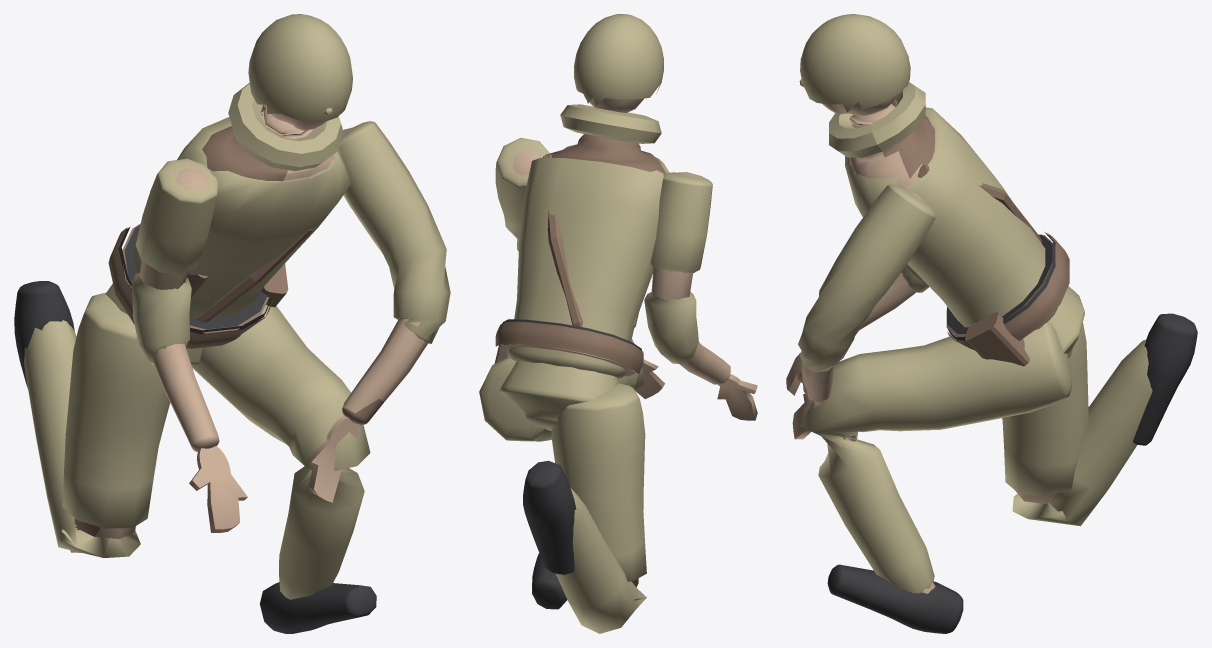
The model's file is tactical-shooter-hill-town-desert-scout-planting-4b461fe9__27581.glb.
3 views of the same model, side by side, from view 1: azimuth 30°, elevation 25°; view 2: azimuth 150°, elevation 25°; view 3: azimuth 270°, elevation 25° (orthographic). The views are drawn at different scales.
Visible parts, largest first — view 1: desert-scout-planting; view 2: desert-scout-planting; view 3: desert-scout-planting.
Part boxes in pixels (box(x1,y1,x2,y2)): desert-scout-planting: box(14, 14, 450, 633); desert-scout-planting: box(479, 14, 757, 633); desert-scout-planting: box(786, 14, 1197, 633).
Bounding box in the file's own units: 0.5726 × 1.32 × 0.8173.
